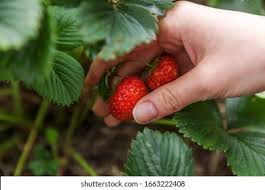ripe: (105, 74, 150, 120), (146, 53, 183, 91)
